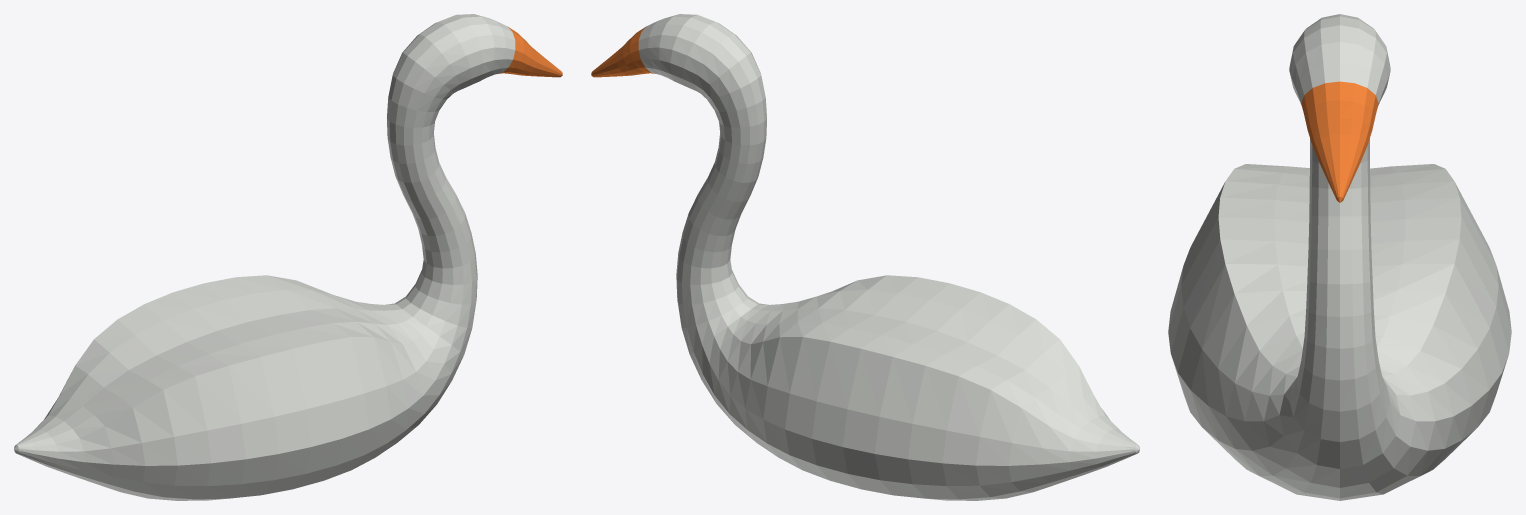
The model's file is NEW_RECOVERY_038_LOD0.glb.
3 views of the same model, side by side, from view 1: azimuth 30°, elevation 25°; view 2: azimuth 150°, elevation 25°; view 3: azimuth 270°, elevation 25° (orthographic). The views are drawn at different scales.
Visible parts, largest first — view 1: Swan; view 2: Swan; view 3: Swan.
Boxes of the visible parts, x1,y1,x2,y2 form: Swan: (14, 14, 562, 500); Swan: (591, 14, 1139, 500); Swan: (1168, 14, 1511, 500).
Bounding box in the file's own units: 3.56 × 2.54 × 1.42.
